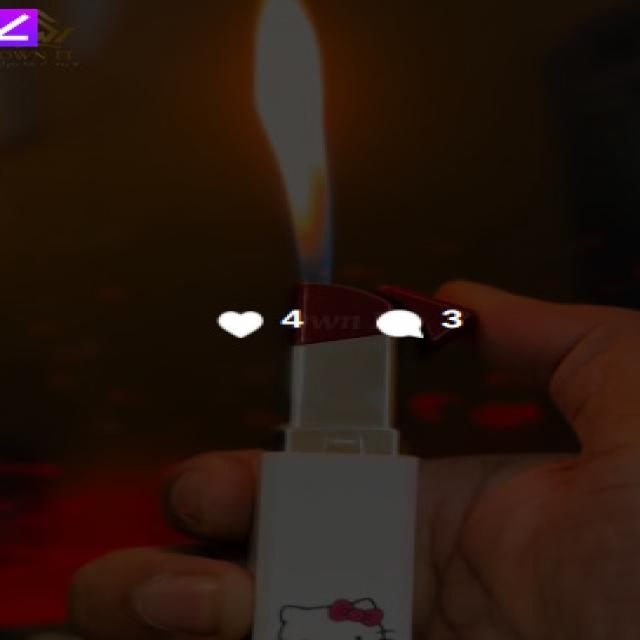fire: (258, 0, 330, 260)
